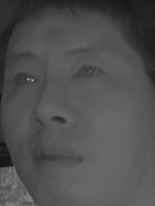eye: (72, 62, 106, 85), (7, 69, 40, 91)
mouth: (31, 141, 87, 175)
